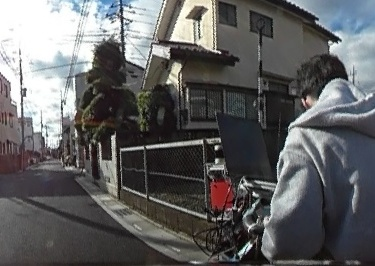person: (258, 51, 375, 266)
